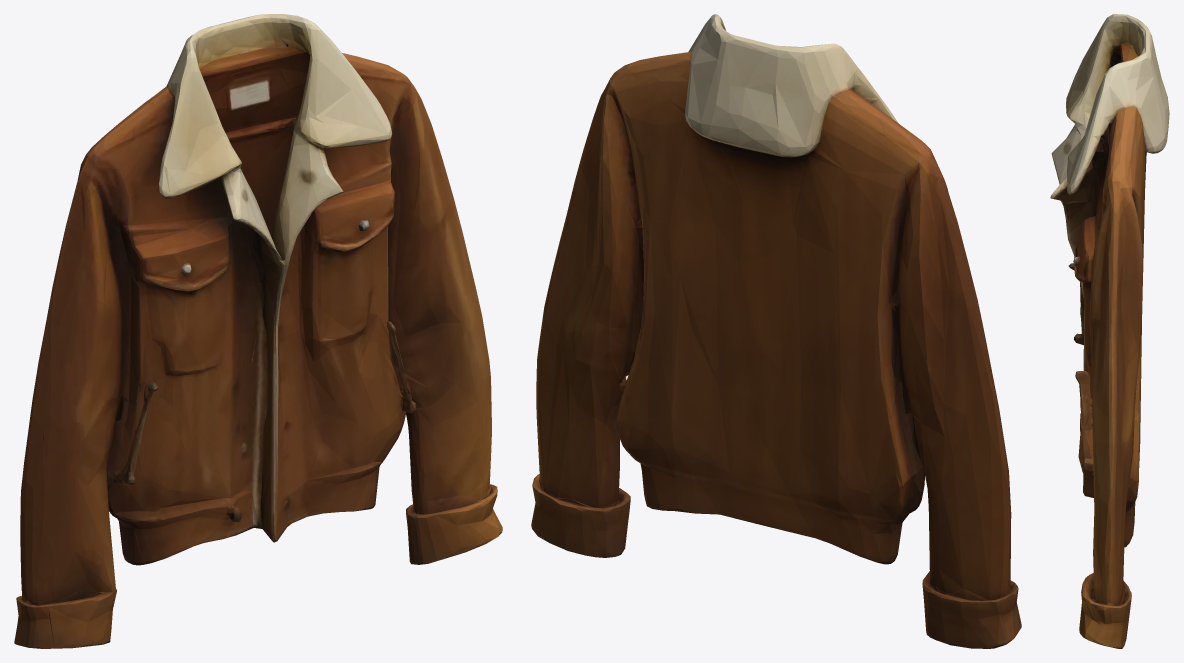
3 views of the same model, side by side, from view 1: azimuth 30°, elevation 25°; view 2: azimuth 150°, elevation 25°; view 3: azimuth 270°, elevation 25° (orthographic). The views are drawn at different scales.
Parts seen in each view (by area): view 1: geometry_0; view 2: geometry_0; view 3: geometry_0.
Part boxes in pixels (<box>): geometry_0: <box>14,14,502,648</box>; geometry_0: <box>531,14,1021,648</box>; geometry_0: <box>1050,14,1169,648</box>.
Bounding box in the file's own units: 0.8854 × 0.9997 × 0.2099.
Materials: 1 (1 with a texture image).
